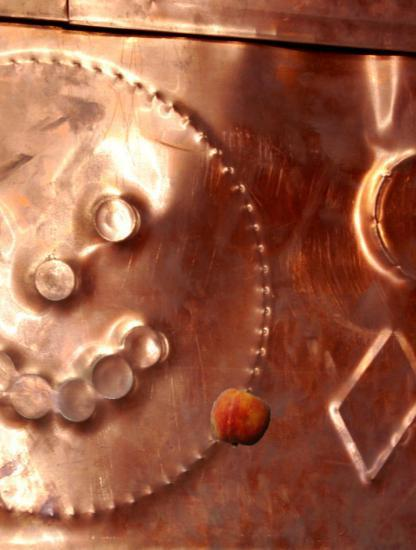Peach: (210, 390, 270, 450)
